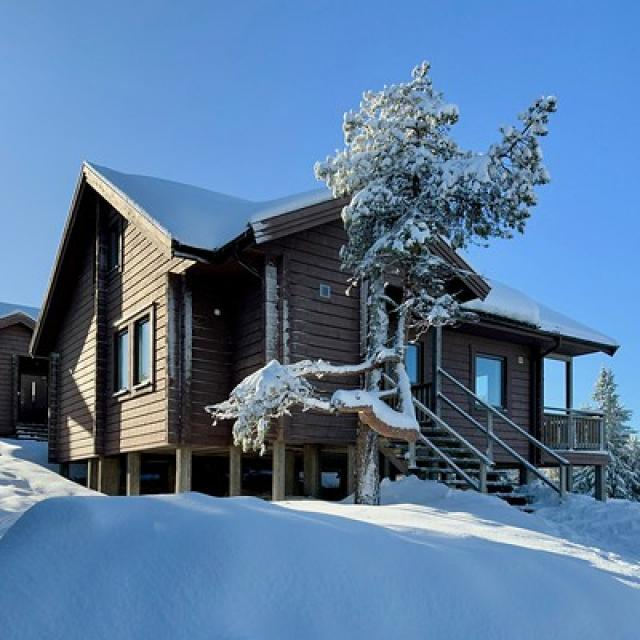Normal_building: (28, 151, 622, 508)
